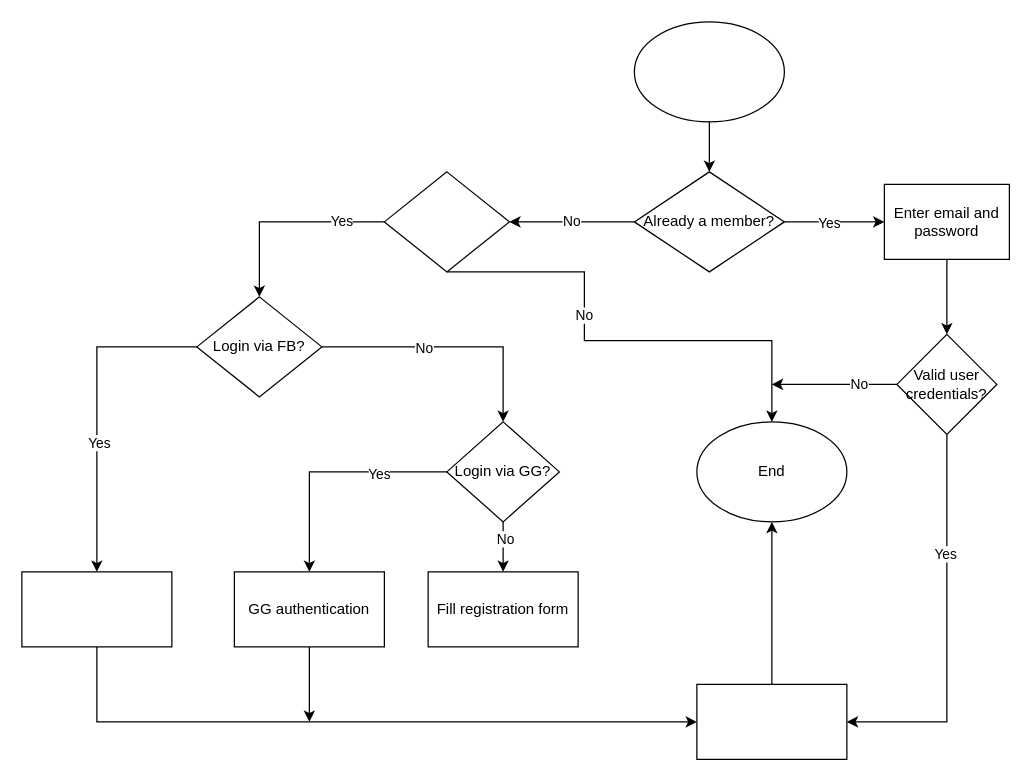
Image size: 1031x781. Some labels were removed from this diagram. The shapes that lost their labels are listed below. From the top down, each one's box as (x1, y1, x2, y2) in pixels, then its label:
(633, 21, 784, 122): Start
(383, 171, 509, 272): Want to login?
(21, 571, 172, 647): FB authentication
(696, 683, 847, 759): User logged in successfully
